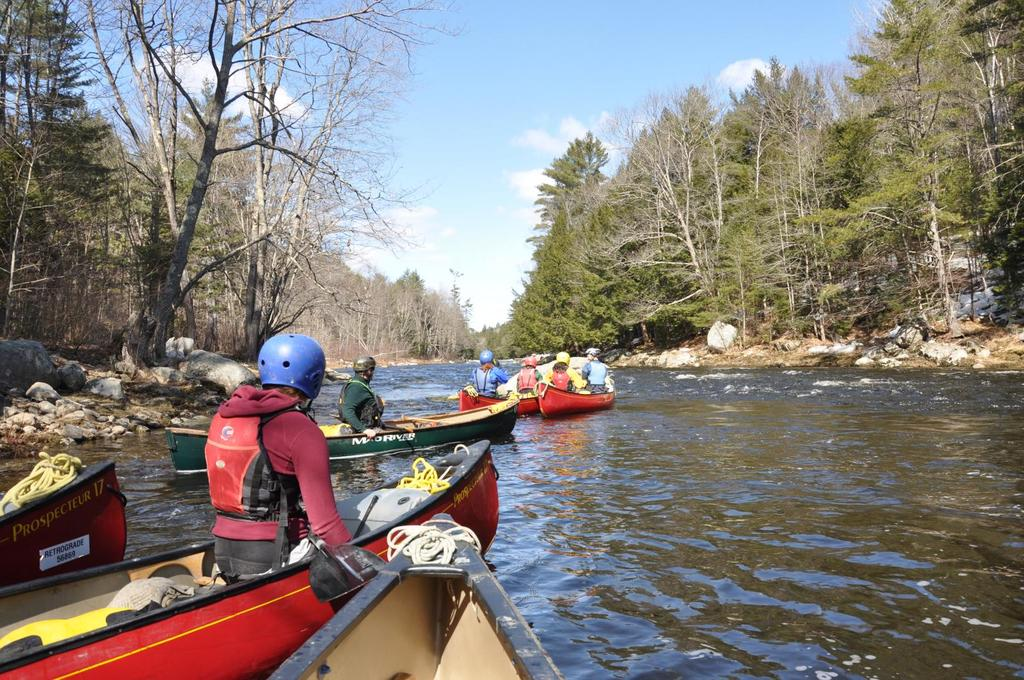Tree: (0, 0, 1024, 366)
